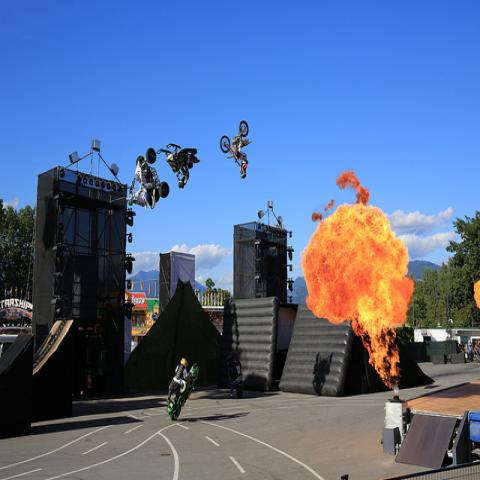motorcycle: (136, 147, 170, 209), (166, 363, 199, 421), (160, 142, 200, 183), (220, 120, 252, 167), (226, 355, 243, 397)
